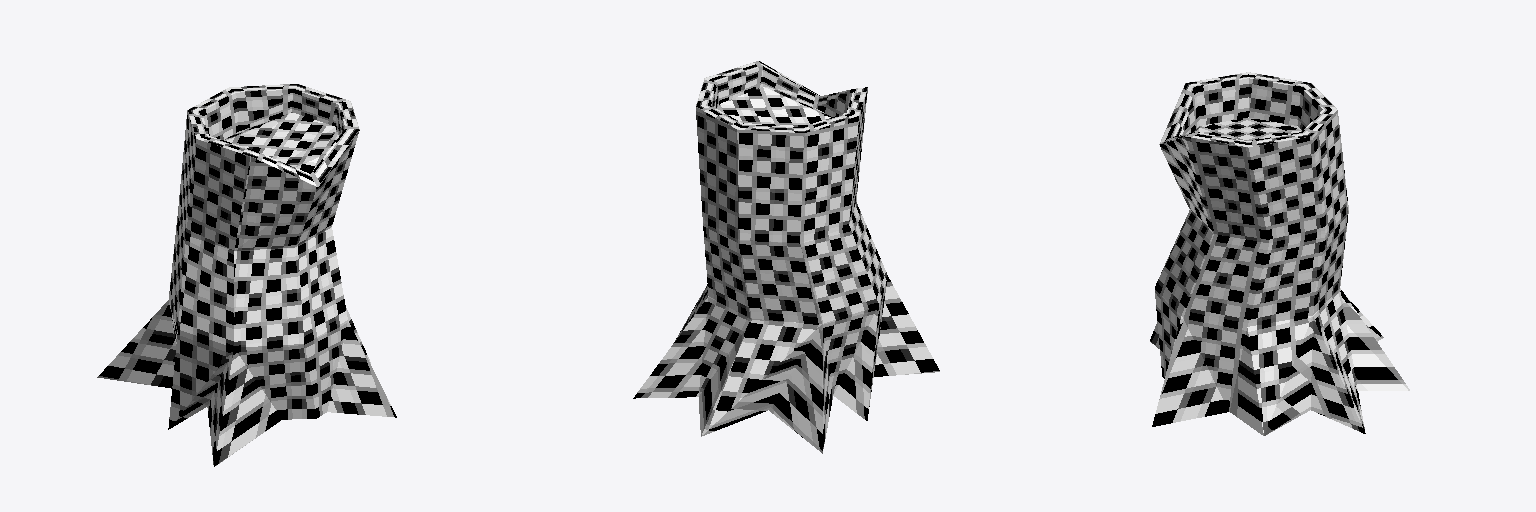
The picture shows the model from 3 angles: view 1: azimuth 30°, elevation 25°; view 2: azimuth 150°, elevation 25°; view 3: azimuth 270°, elevation 25°; orthographic projection.
Parts seen in each view (by area): view 1: Tronco_02; view 2: Tronco_02; view 3: Tronco_02.
Part boxes in pixels (x1,y1,x2,y2): Tronco_02: (97,84,396,466); Tronco_02: (633,61,939,453); Tronco_02: (1150,72,1409,435).
Size of the model in its own units: 13.87 by 18.15 by 14.59.
1 materials, 1 textured.